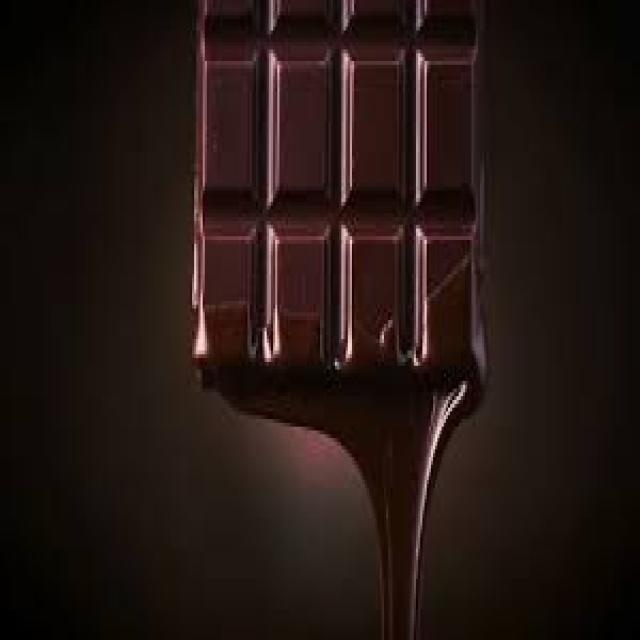Chocolate: (192, 0, 486, 389)
